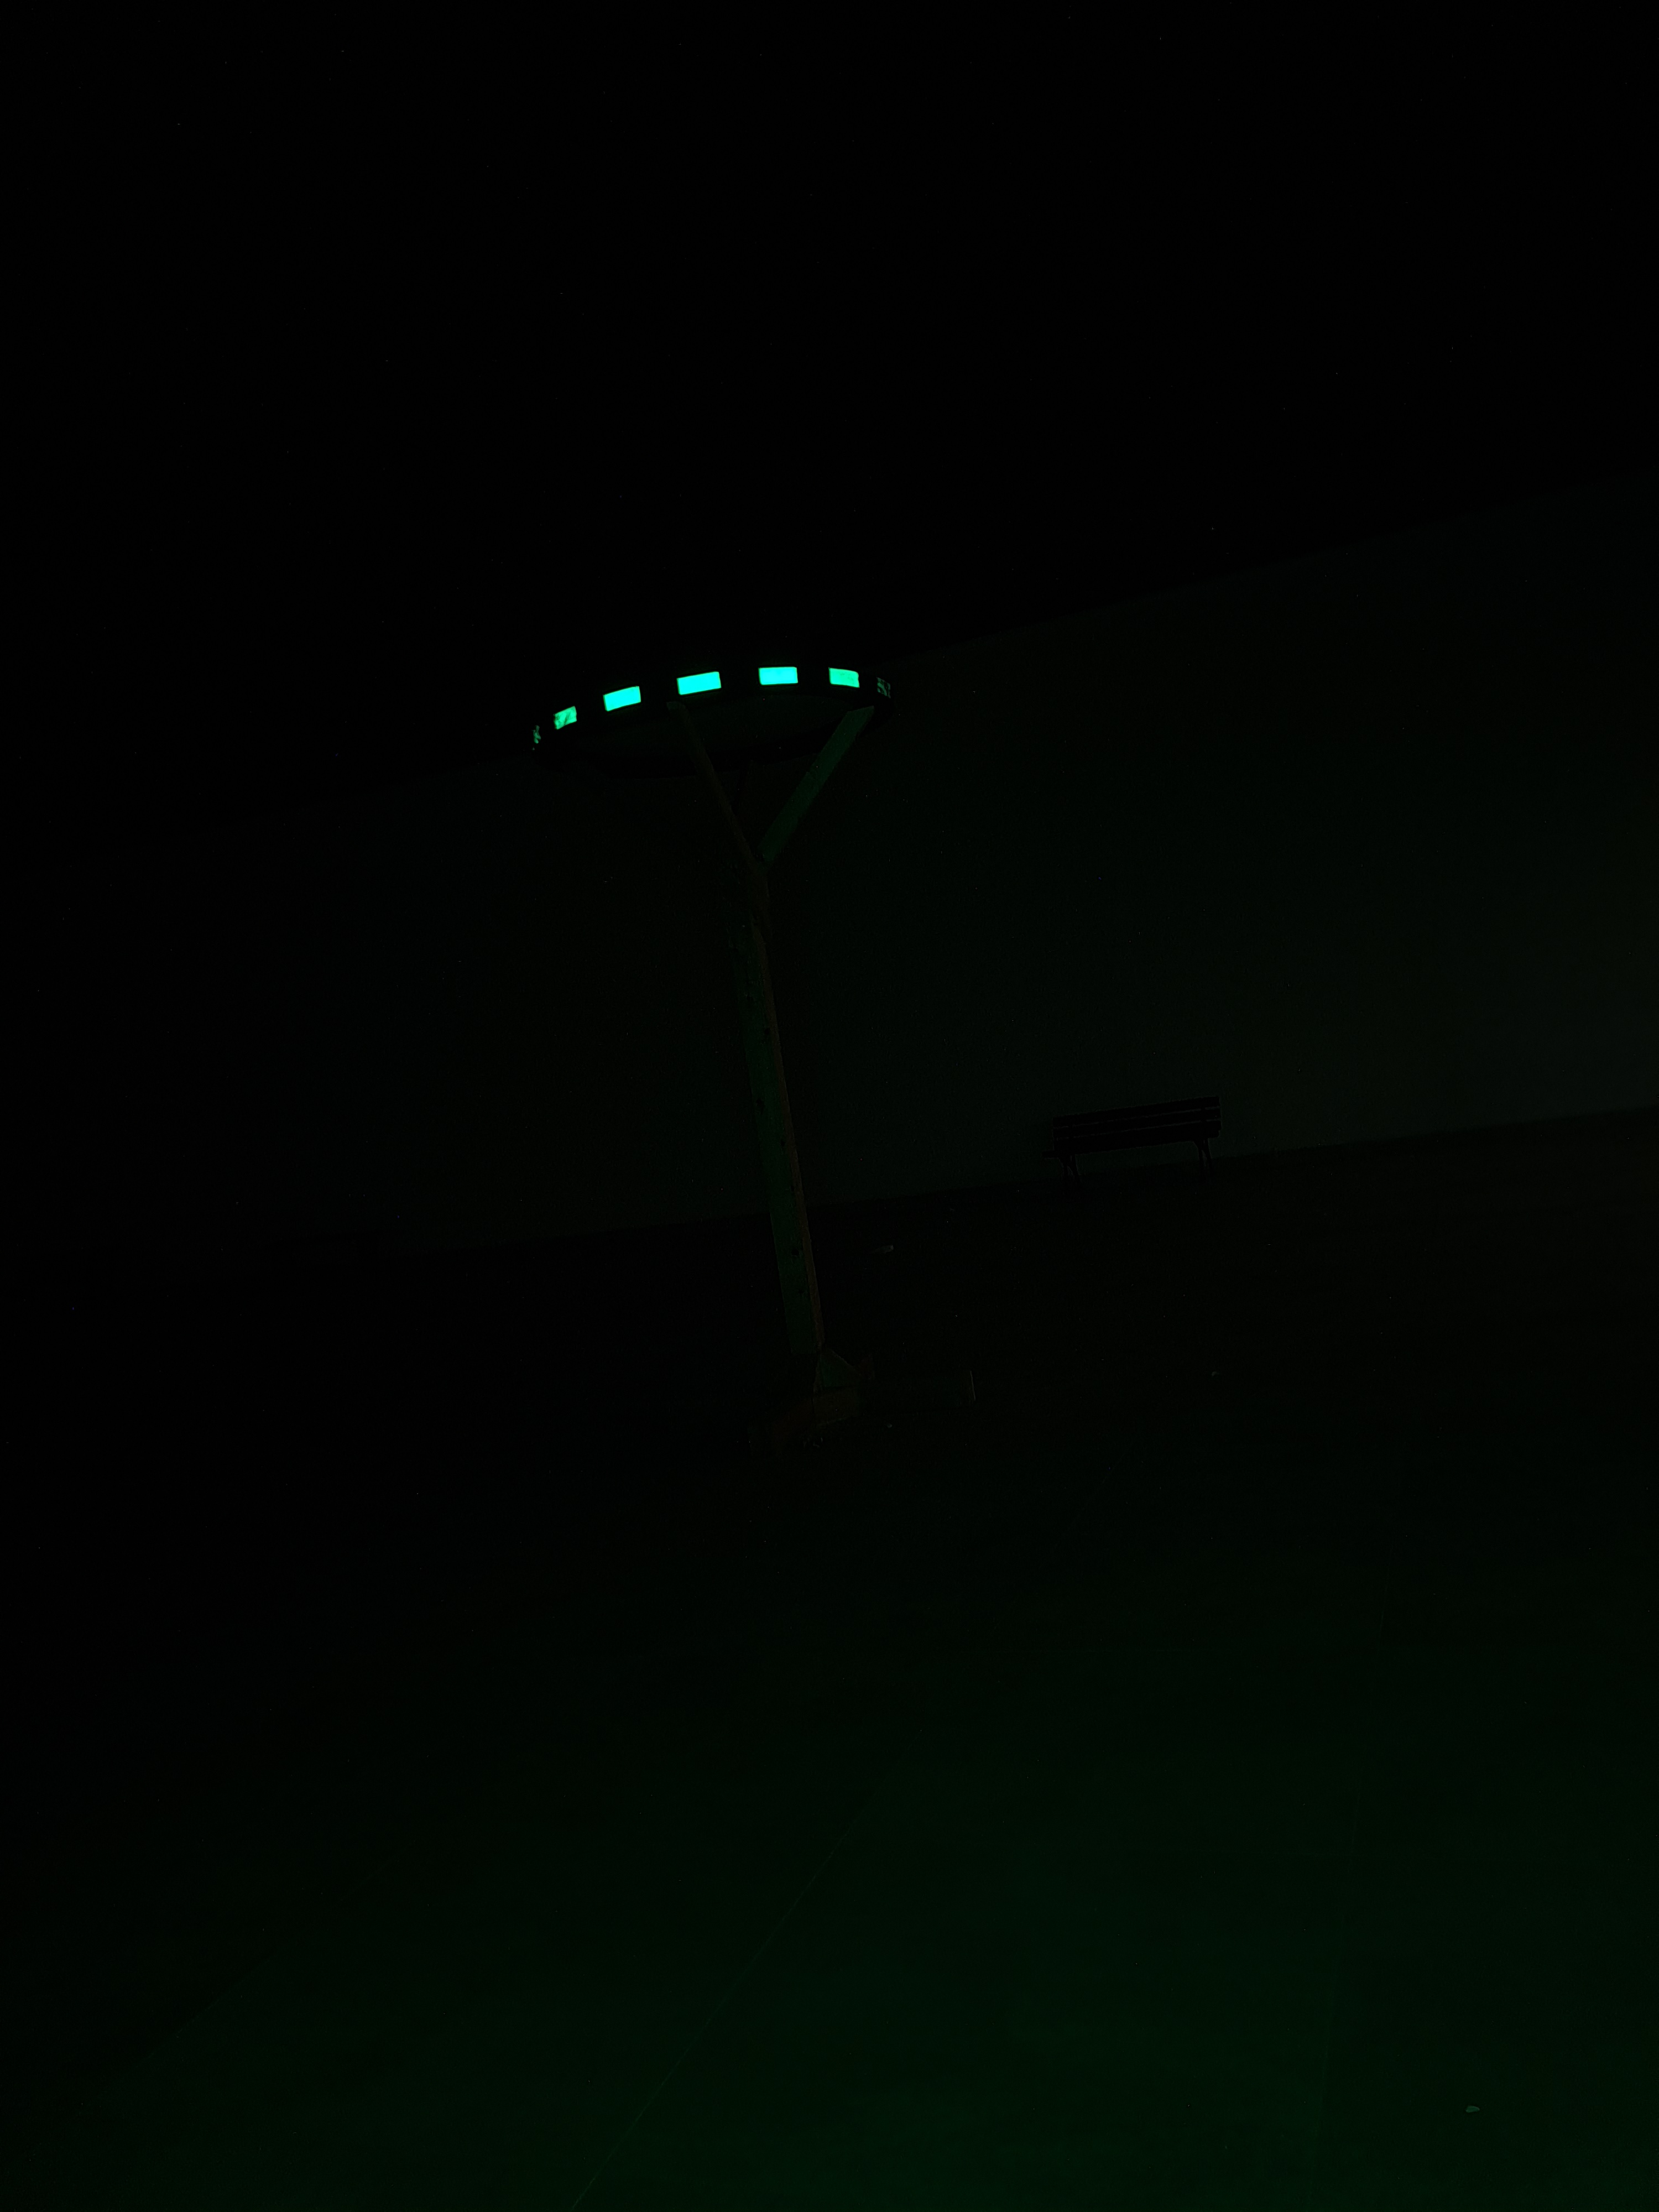hoop: (528, 655, 892, 745)
